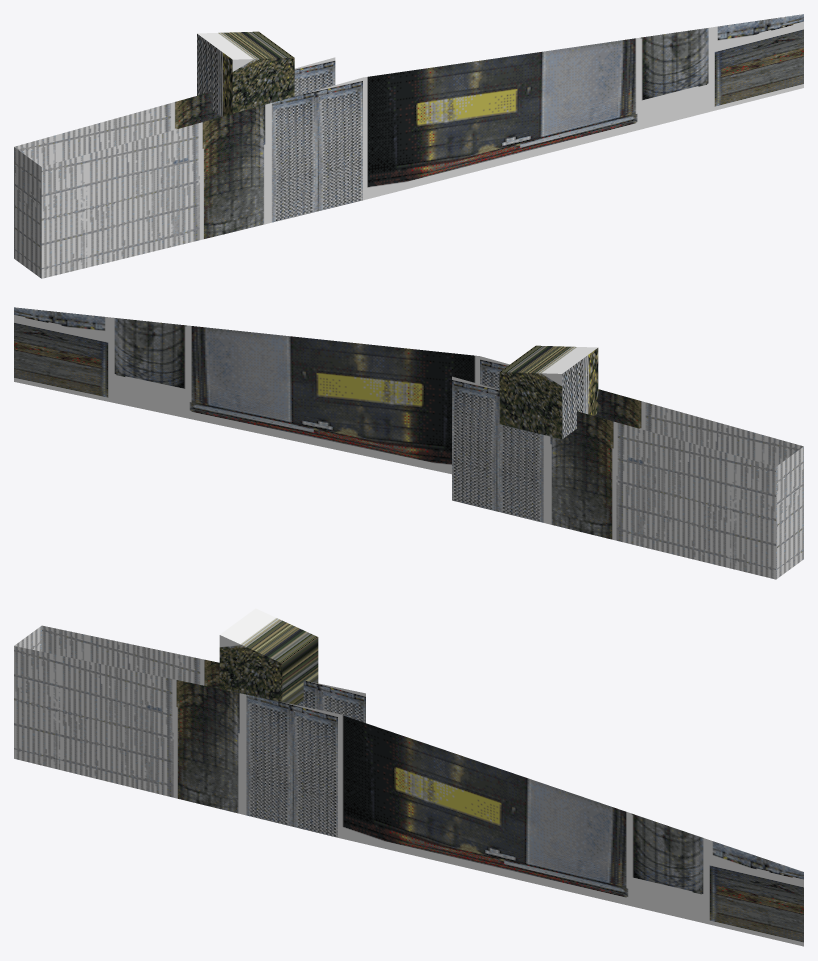
The model's file is building hedge.fbx.
3 views of the same model, one above another, from view 1: azimuth 30°, elevation 25°; view 2: azimuth 150°, elevation 25°; view 3: azimuth 330°, elevation 25° (orthographic).
Visible parts, largest first — view 1: Plane.100; view 2: Plane.100; view 3: Plane.100.
Boxes of the visible parts, box(x1,y1,x2,y2) form: Plane.100: box(14, 14, 803, 278); Plane.100: box(14, 307, 803, 579); Plane.100: box(14, 608, 803, 946).
Bounding box in the file's own units: 2761 × 586 × 261.
